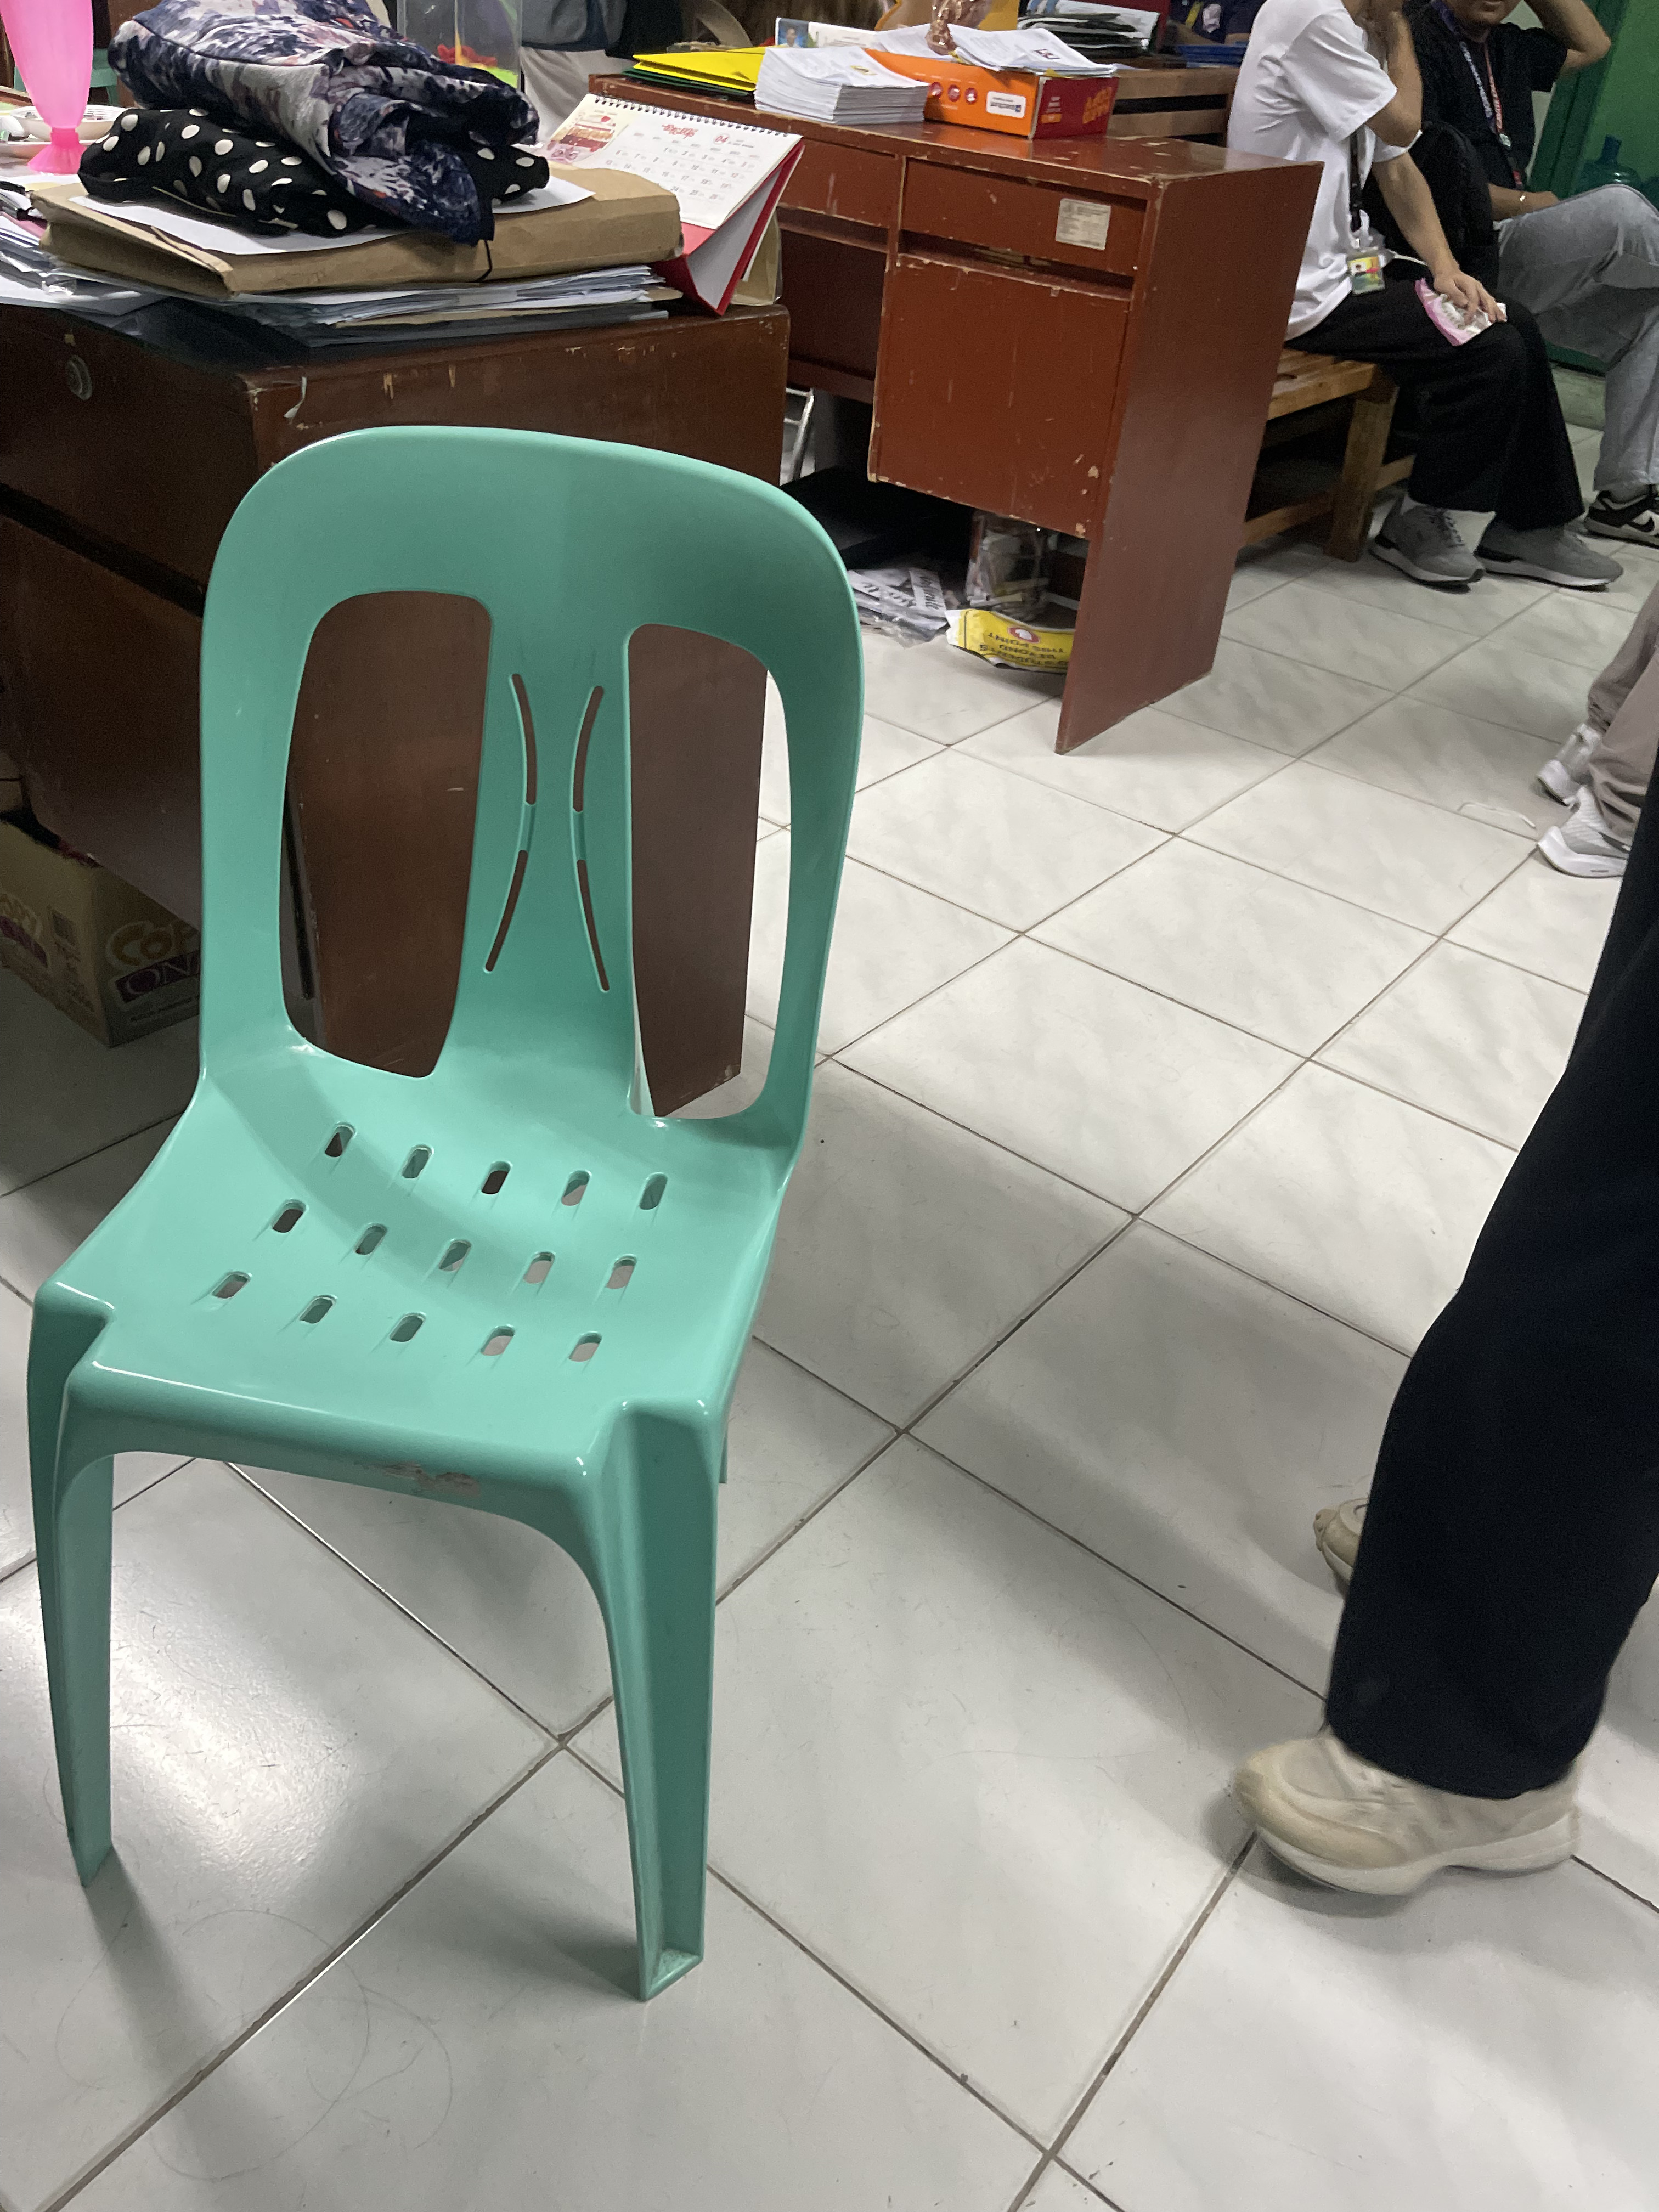chair2: (16, 421, 882, 2017)
